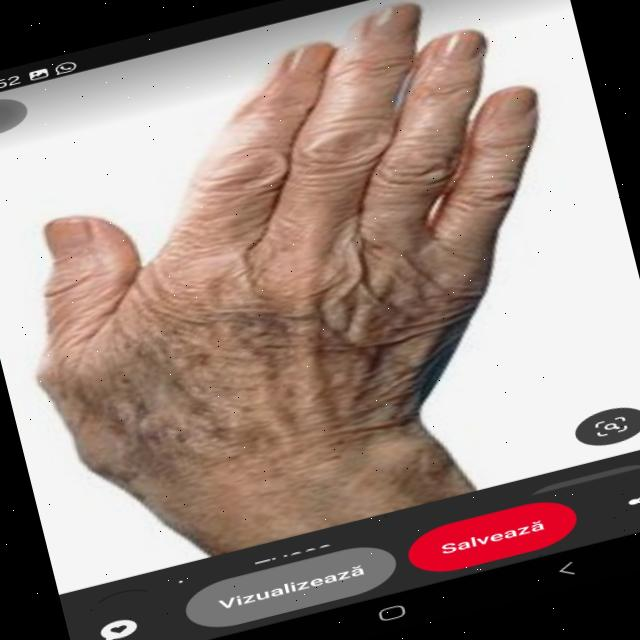hands: (0, 0, 625, 576)
